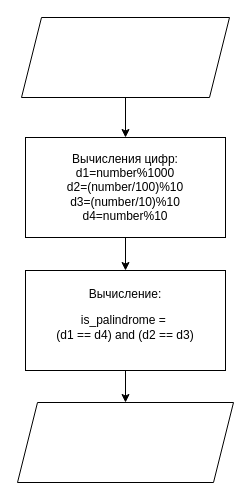
The diagram is 251 pixels wide and 500 high, and some of its shapes have lost their labels. Each missing label, with the centre of its shape:
Ввод:number: point 125,57
Вывод результата: is_palindrome ? "" : "НЕ ": point 125,442
